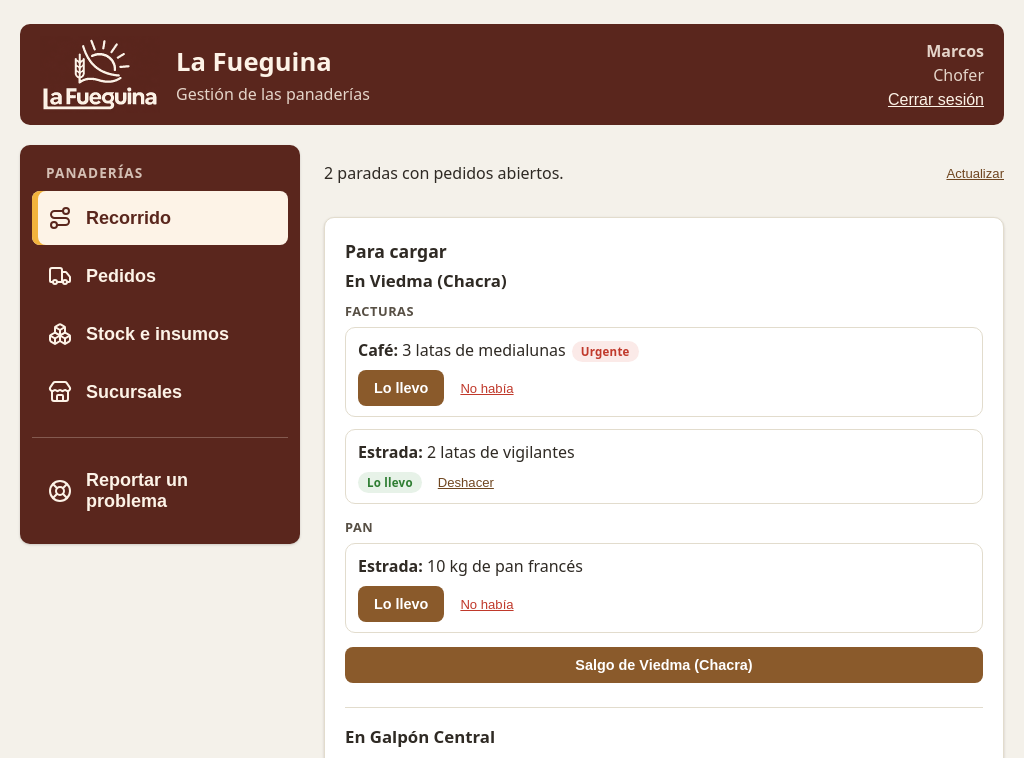
Test: Recorrido del chofer › al salir de un lugar pone en camino cada pedido una sola vez
Expected: the text "3 latas de medialunas" is shown, [402,339,566,361]
Click the button "Salgo de Viedma (Chacra)" at (664, 666), box [345,648,983,684]
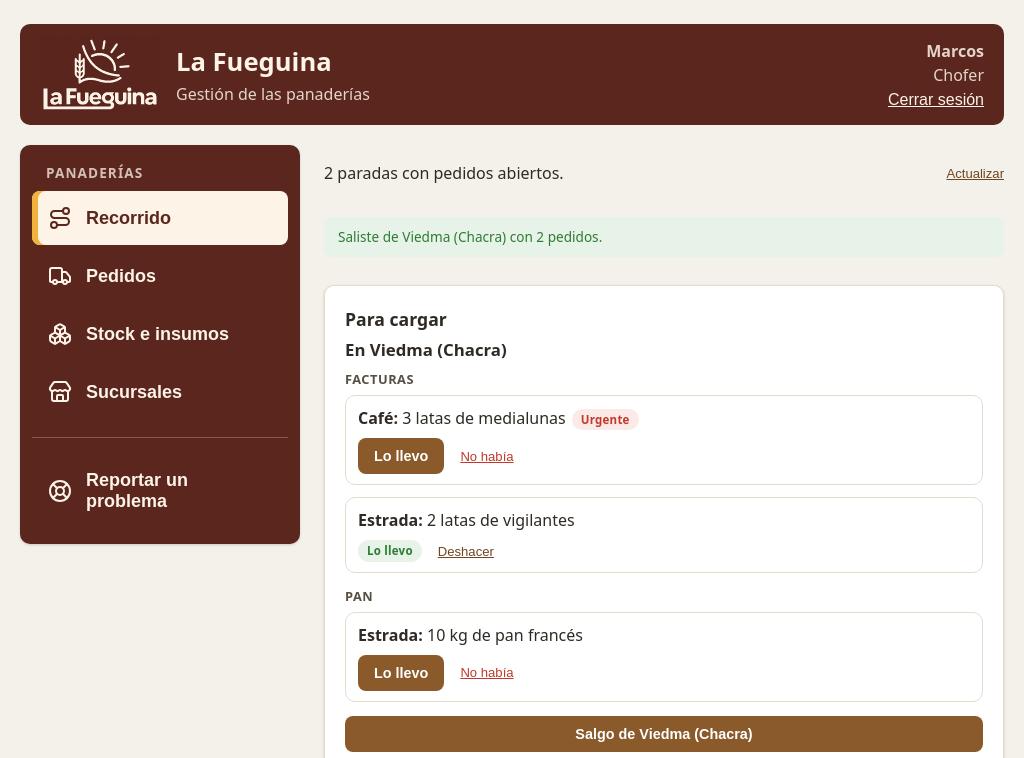
Now the message reads "Saliste de Viedma (Chacra) con 2 pedidos.", box [338,227,602,246]
